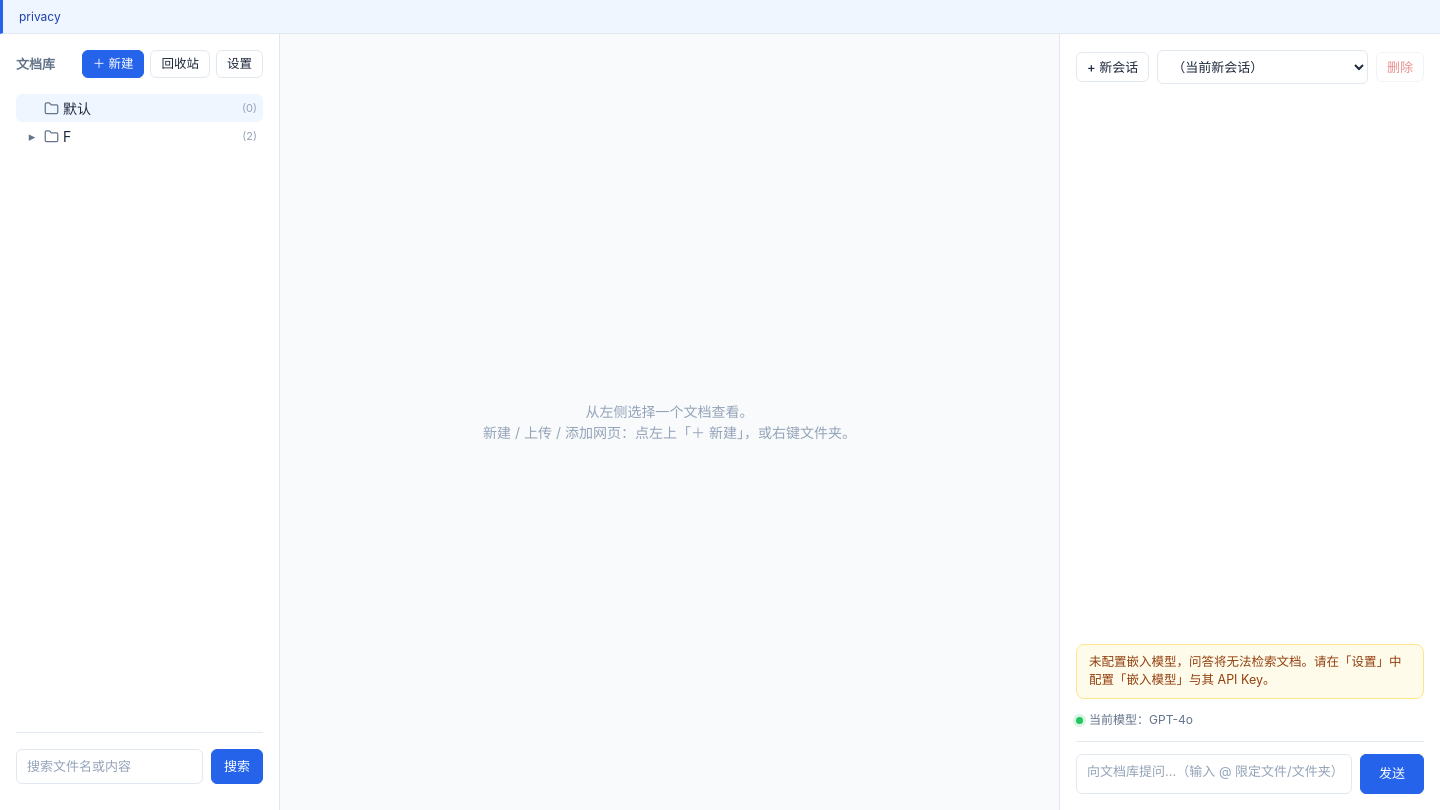
App › opens the trash and lists deleted items
Click the button "回收站" at (180, 64), box [150,50,210,78]
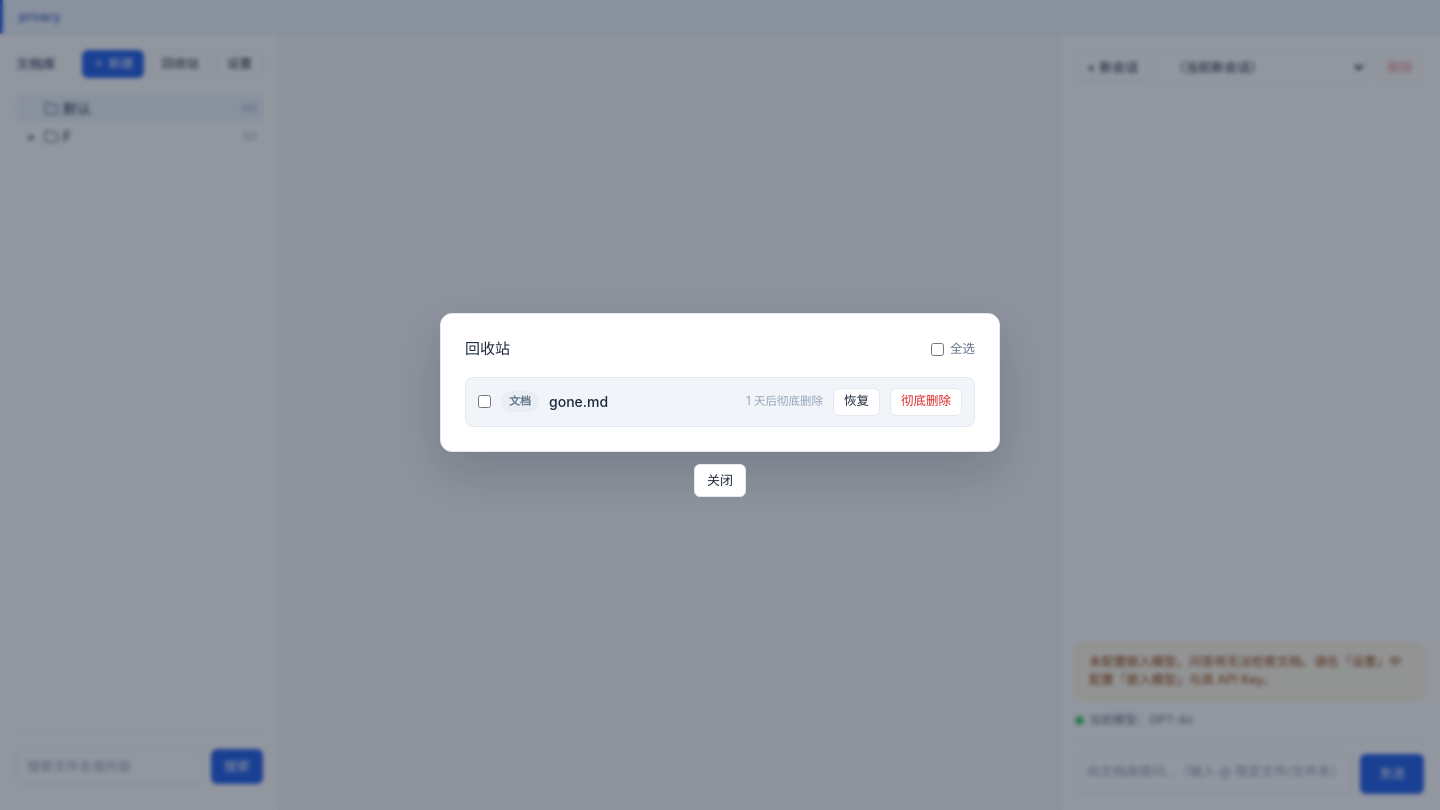
Expected: the element with test id "trash-panel" that starts with "回收站" is shown
Expected: the text "gone.md" is shown, [549,393,608,410]
